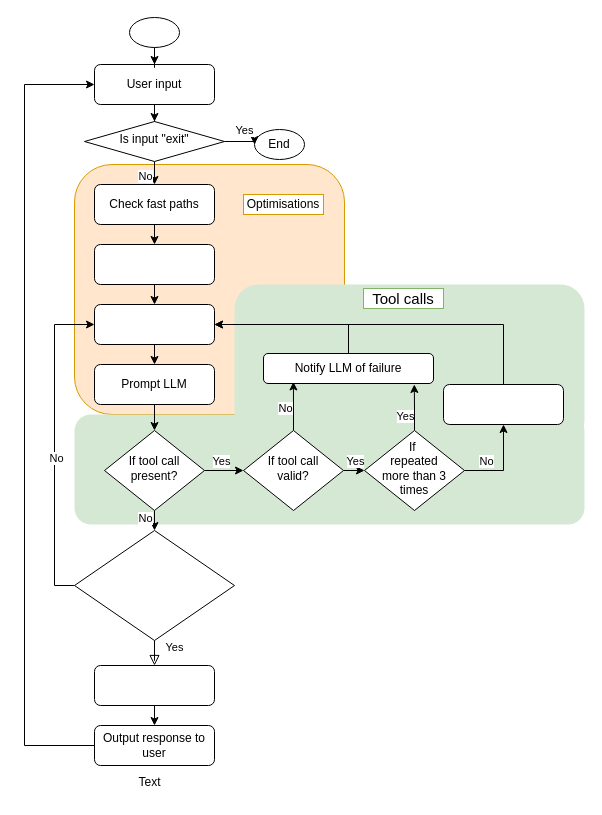
The diagram is 602 pixels wide and 815 high, and some of its shapes have lost their labels. The shapes that lost their labels are listed below. From the top down, each one's box as (x1, y1, x2, y2) in pixels, then its label:
(128, 16, 180, 48): Start
(94, 244, 214, 284): Check if query is in cache
(94, 304, 214, 344): Decide on model size necessary
(442, 384, 564, 424): Resolve tool calls
(74, 530, 234, 640): Does the output actually answer the question?
(94, 664, 214, 706): Cache the response
